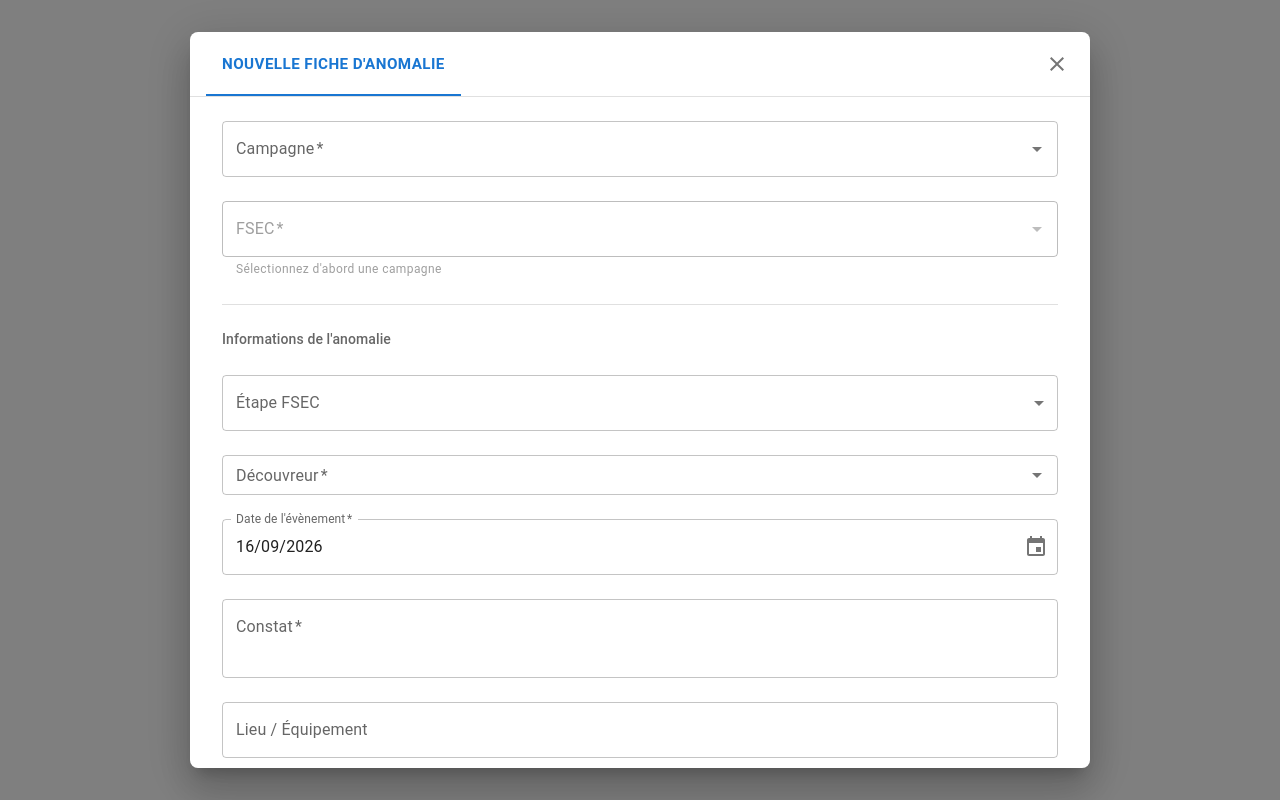
Test: CreateFaModal › Cascading Selection › should enable FSEC selector after campaign selection
Click the dropdown labelled "Campagne *" at (625, 149), box [231,130,1019,168]
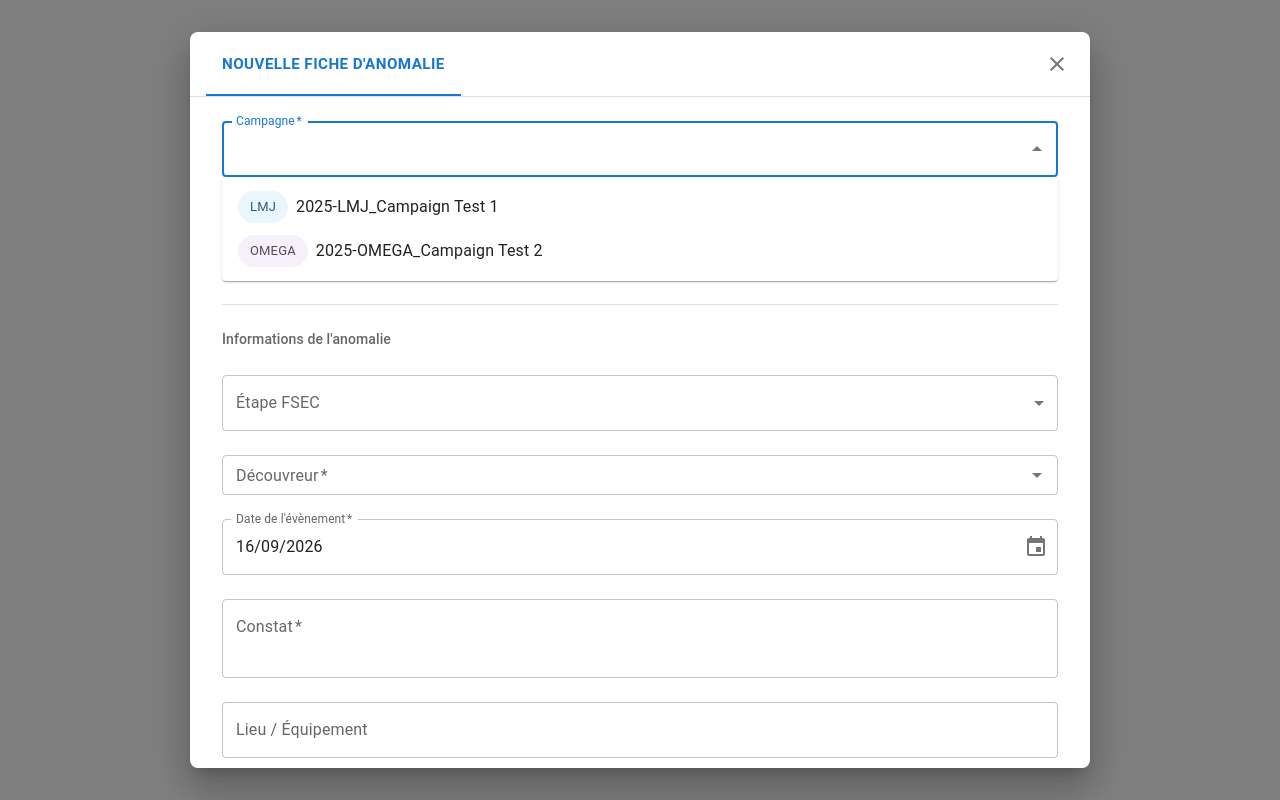
Click the text "2025-LMJ_Campaign Test 1" at (397, 207), box [296,195,498,219]
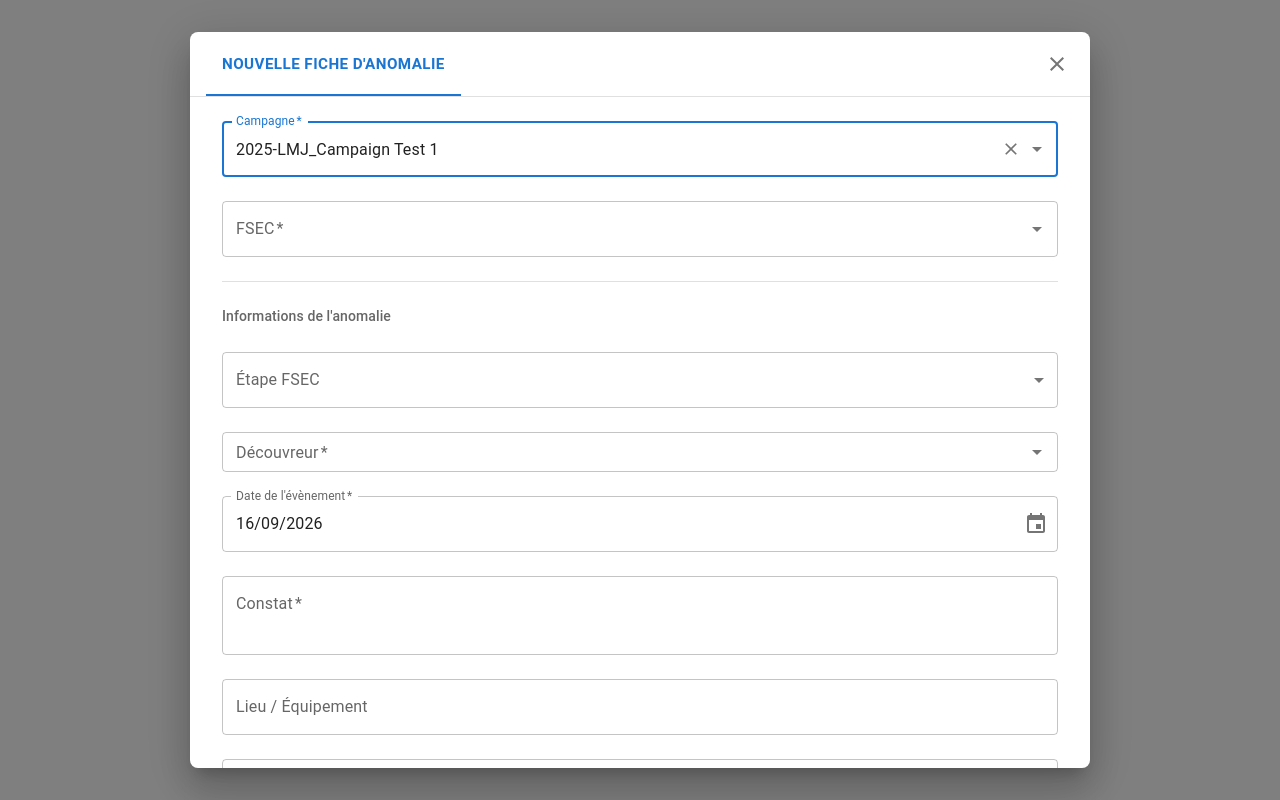
Result: the dropdown labelled "FSEC *" is enabled at [231,210,1019,248]
